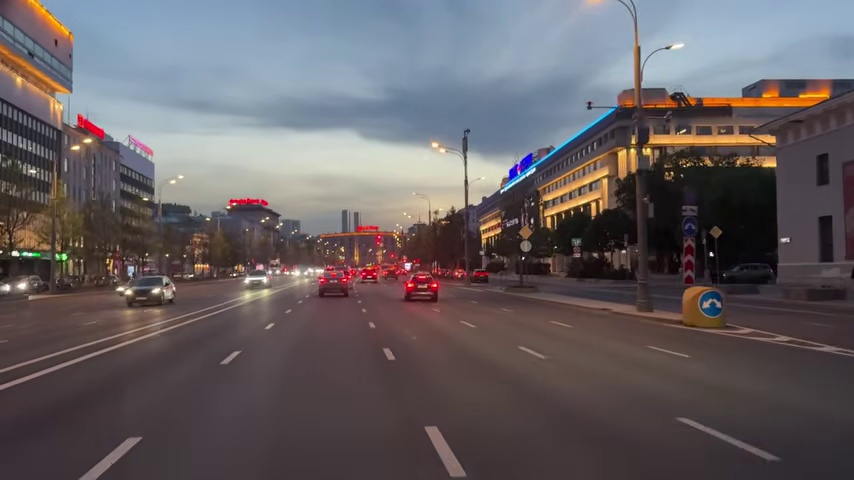acesa: (429, 141, 446, 156)
